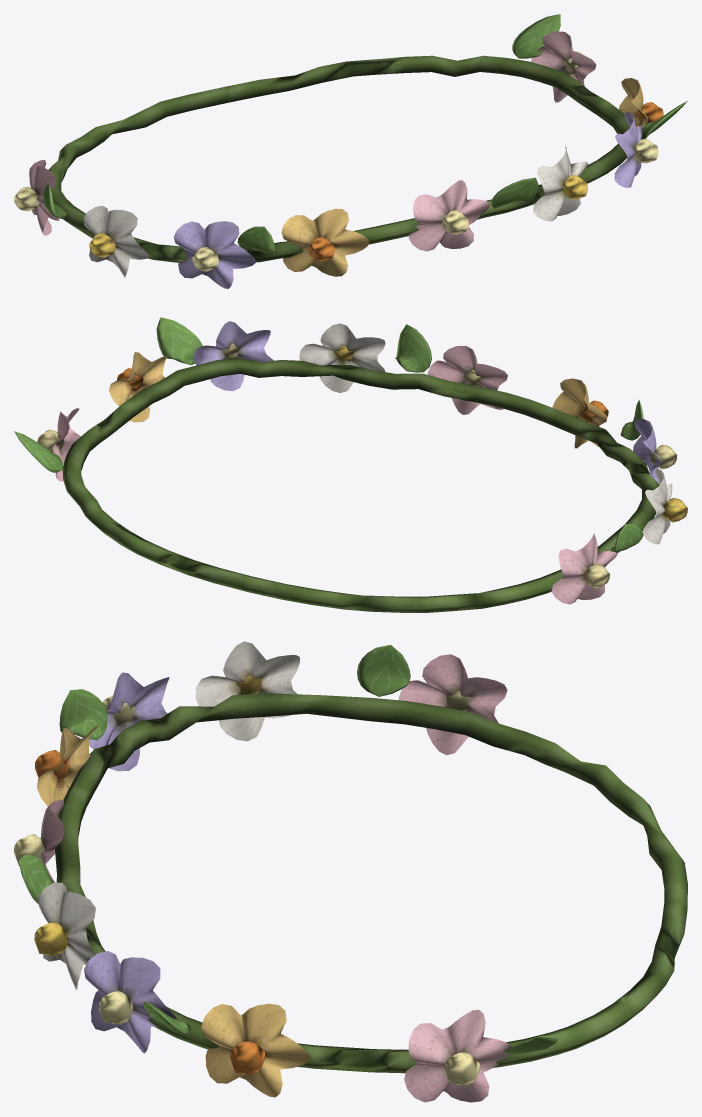
The model's file is flowercrown.glb.
3 views of the same model, one above another, from view 1: azimuth 30°, elevation 25°; view 2: azimuth 150°, elevation 25°; view 3: azimuth 270°, elevation 25° (orthographic). The views are drawn at different scales.
Parts seen in each view (by area): view 1: flowercrown_vine, flowercrown_fl3, flowercrown_fl4, flowercrown_fl2, flowercrown_fl1, flowercrown_fl5, flowercrown_fl8, flowercrown_fl6, flowercrown_leaf8, flowercrown_fl0, flowercrown_leaf4, flowercrown_fl7 (+8 smaller); view 2: flowercrown_vine, flowercrown_fl5, flowercrown_fl6, flowercrown_fl0, flowercrown_fl4, flowercrown_fl7, flowercrown_leaf6, flowercrown_fl3, flowercrown_leaf4, flowercrown_fl1, flowercrown_fl2, flowercrown_fl8 (+5 smaller); view 3: flowercrown_vine, flowercrown_fl7, flowercrown_fl8, flowercrown_fl1, flowercrown_fl6, flowercrown_fl0, flowercrown_fl5, flowercrown_fl2, flowercrown_leaf0, flowercrown_fl3, flowercrown_leaf2, flowercrown_fl4 (+6 smaller).
Boxes of the visible parts, x1,y1,x2,y2 form: flowercrown_vine: (48, 55, 629, 262); flowercrown_fl3: (281, 208, 369, 276); flowercrown_fl4: (408, 180, 489, 251); flowercrown_fl2: (173, 221, 255, 288); flowercrown_fl1: (83, 205, 148, 277); flowercrown_fl5: (533, 146, 588, 221); flowercrown_fl8: (530, 31, 596, 102); flowercrown_fl6: (614, 112, 642, 187); flowercrown_leaf8: (512, 14, 560, 58); flowercrown_fl0: (29, 160, 59, 235); flowercrown_leaf4: (491, 177, 538, 208); flowercrown_fl7: (619, 78, 647, 138); flowercrown_vine: (62, 357, 658, 612); flowercrown_fl5: (299, 323, 385, 392); flowercrown_fl6: (193, 321, 273, 390); flowercrown_fl0: (551, 533, 617, 604); flowercrown_fl4: (427, 346, 507, 414); flowercrown_fl7: (109, 352, 168, 422); flowercrown_leaf6: (156, 317, 202, 364); flowercrown_fl3: (552, 378, 607, 448); flowercrown_leaf4: (395, 324, 431, 372); flowercrown_fl1: (643, 469, 672, 544); flowercrown_fl2: (633, 419, 660, 485); flowercrown_fl8: (52, 408, 80, 481); flowercrown_vine: (55, 693, 687, 1073); flowercrown_fl7: (201, 1003, 309, 1097); flowercrown_fl8: (404, 1009, 512, 1102); flowercrown_fl1: (195, 641, 299, 741); flowercrown_fl6: (84, 951, 177, 1053); flowercrown_fl0: (398, 654, 507, 755); flowercrown_fl5: (38, 882, 95, 989); flowercrown_fl2: (89, 672, 169, 771); flowercrown_leaf0: (357, 644, 410, 696); flowercrown_fl3: (37, 725, 98, 806); flowercrown_leaf2: (59, 689, 107, 740); flowercrown_fl4: (40, 799, 64, 882).
Size of the model in its own units: 26.22 by 3.86 by 19.03.
1 material, 1 textured.
